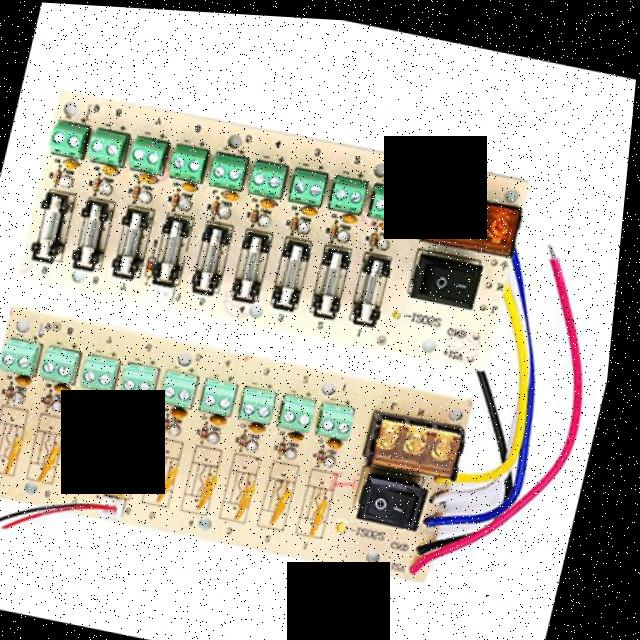2235: (402, 236, 501, 312), (358, 464, 444, 532)
connector -5v-: (241, 145, 299, 206), (362, 166, 415, 229), (79, 115, 139, 169), (238, 366, 291, 425), (166, 130, 219, 188), (206, 136, 253, 196), (277, 382, 329, 435), (326, 159, 374, 216), (285, 157, 331, 215), (201, 365, 253, 416), (122, 353, 170, 408), (322, 388, 370, 443), (160, 359, 209, 410), (79, 352, 126, 401), (47, 113, 94, 160), (43, 342, 90, 389), (128, 129, 172, 179), (5, 337, 49, 379)
fuse F1: (149, 207, 204, 296), (350, 245, 398, 333), (110, 202, 159, 286), (72, 199, 119, 279), (194, 221, 240, 301), (312, 243, 358, 321), (274, 237, 318, 313), (236, 228, 281, 302), (33, 192, 75, 270)
